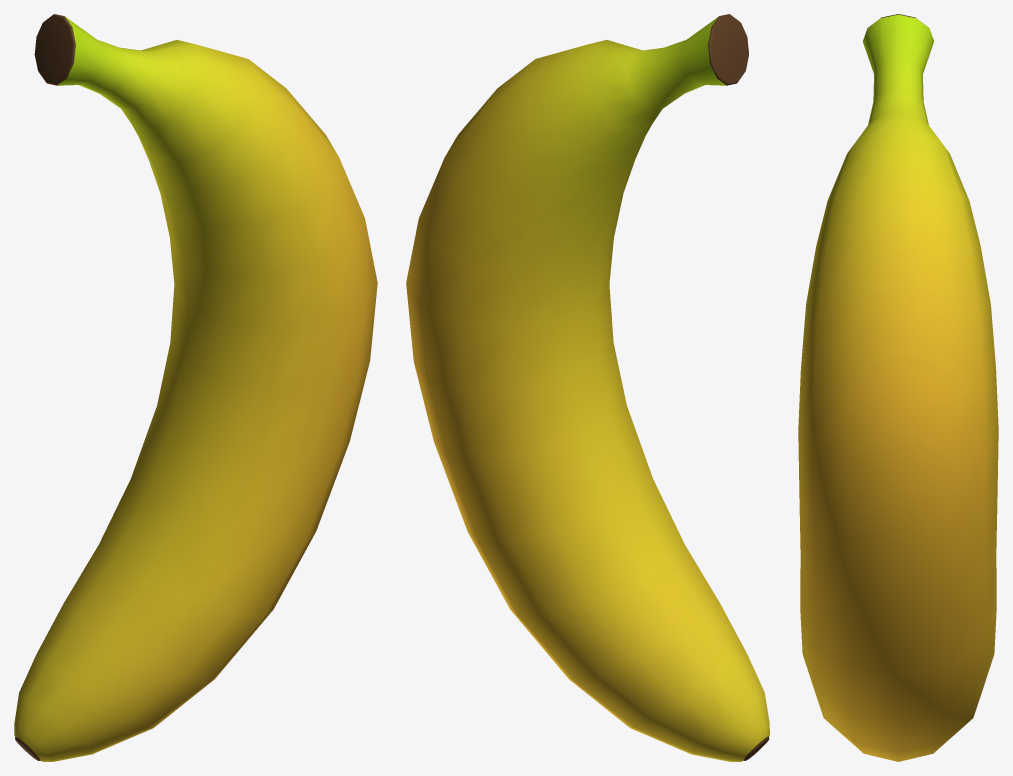
The model's file is banana.glb.
The picture shows the model from 3 angles, left to right: view 1: azimuth 30°, elevation 25°; view 2: azimuth 150°, elevation 25°; view 3: azimuth 270°, elevation 25°; orthographic projection.
Visible parts, largest first — view 1: Banana; view 2: Banana; view 3: Banana.
Part boxes in pixels (<box>): Banana: <box>14,14,377,761</box>; Banana: <box>406,14,769,761</box>; Banana: <box>798,14,998,761</box>.
Bounding box in the file's own units: 0.0486 × 0.0992 × 0.0248.
Materials: 1 (1 with a texture image).
